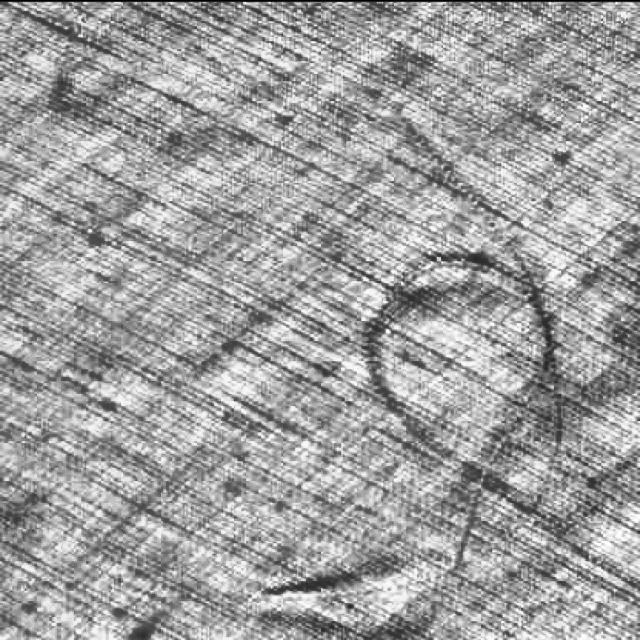objects: (274, 97, 640, 640)
